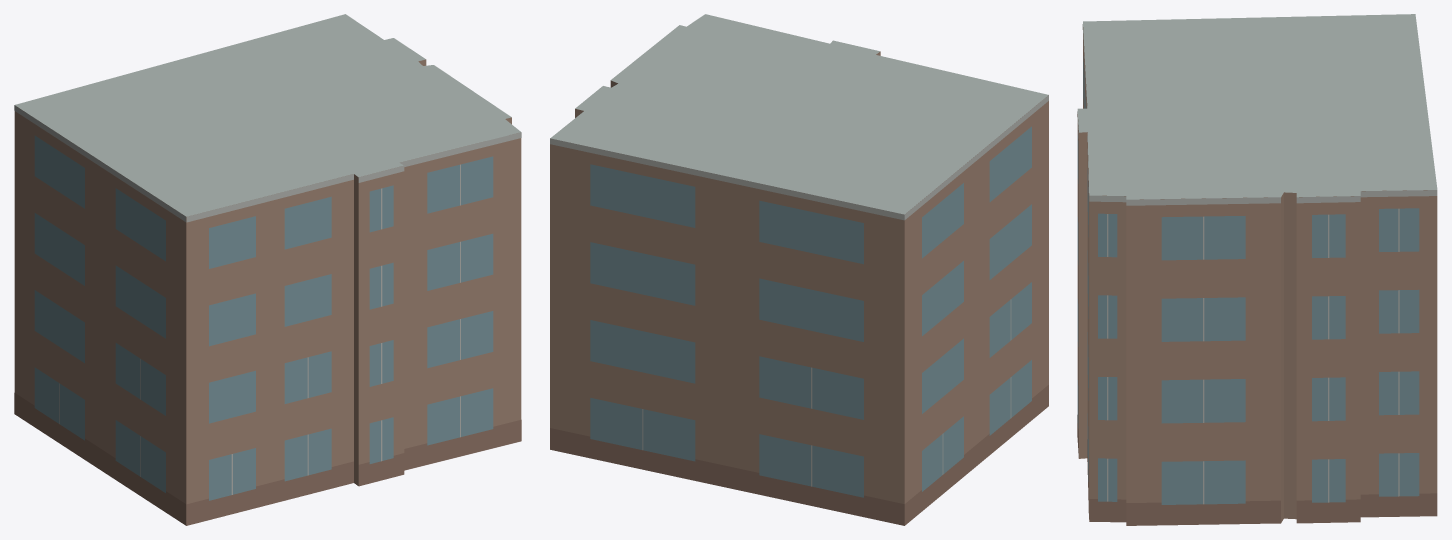
File: survey-upis-32746545.glb
3 views of the same model, side by side, from view 1: azimuth 30°, elevation 25°; view 2: azimuth 150°, elevation 25°; view 3: azimuth 270°, elevation 25° (orthographic). The views are drawn at different scales.
Visible parts, largest first — view 1: survey-upis-32746545.tmp; view 2: survey-upis-32746545.tmp; view 3: survey-upis-32746545.tmp.
Boxes of the visible parts, x1,y1,x2,y2 form: survey-upis-32746545.tmp: (14, 14, 521, 525); survey-upis-32746545.tmp: (550, 14, 1048, 525); survey-upis-32746545.tmp: (1077, 14, 1437, 525).
Bounding box in the file's own units: 15.88 × 13 × 13.01.
